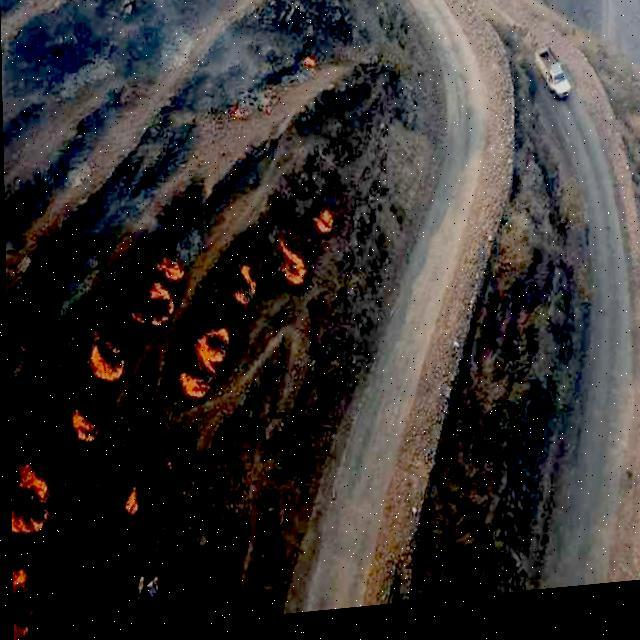Fire: (130, 252, 186, 330), (85, 328, 122, 387), (191, 328, 230, 370), (274, 245, 306, 292), (65, 407, 98, 445), (174, 370, 207, 408), (230, 264, 254, 312), (119, 487, 140, 520), (310, 215, 334, 241), (227, 105, 244, 122), (302, 61, 318, 74)
